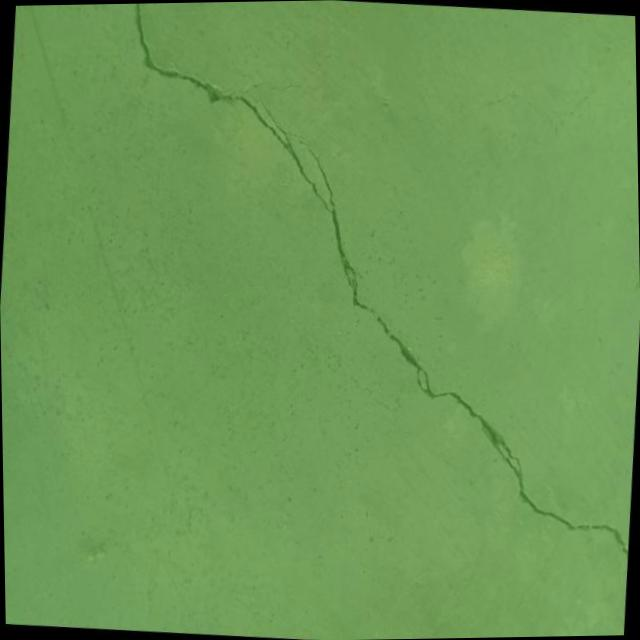crack: (97, 0, 640, 567), (409, 114, 444, 126)
